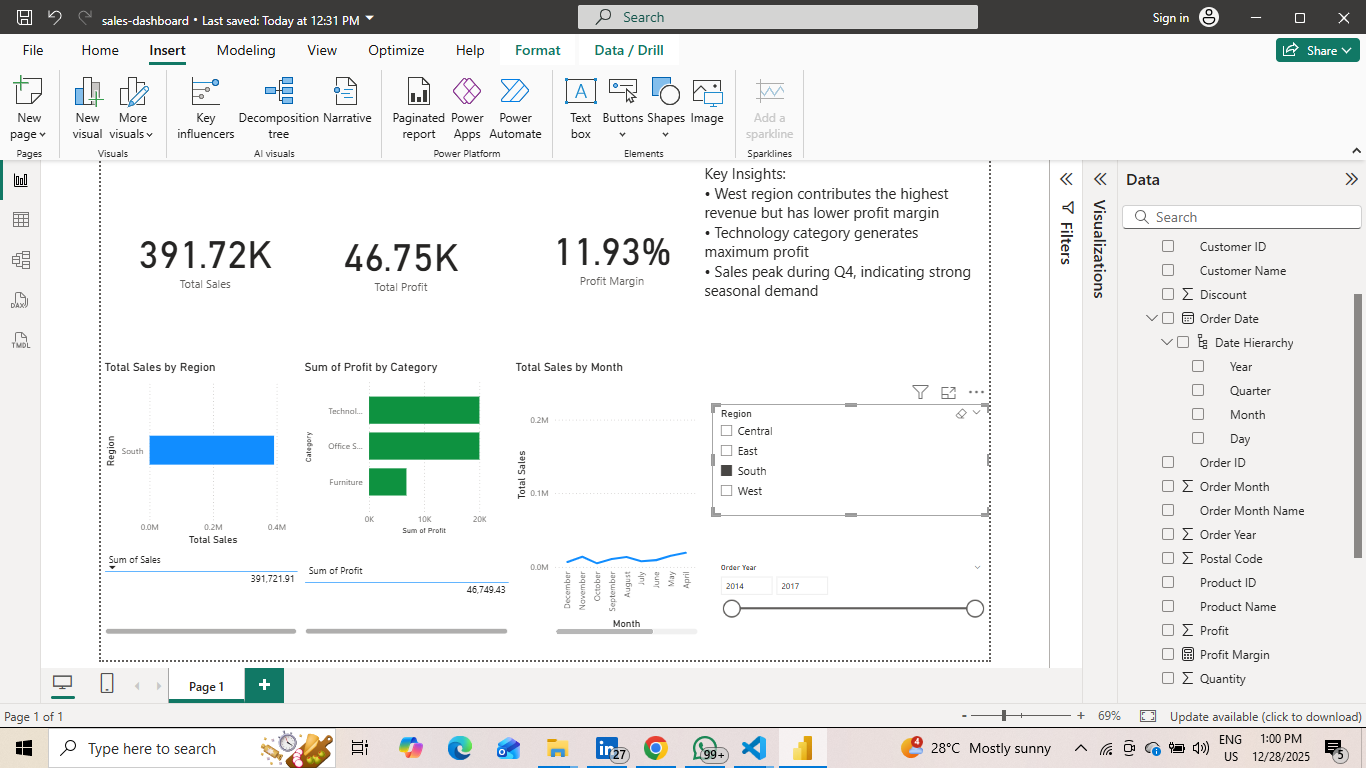

This screenshot's page, from the dashboard's own definition file:
{"tool":"powerbi","page":{"name":"Page 1","canvas":[1280,720],"ordinal":0},"visuals":[{"type":"card","fields":{"Values":["cleaned_sales_data.Total Sales"]},"box":[10,0,280,280],"z":0},{"type":"card","fields":{"Values":["cleaned_sales_data.Total Profit"]},"box":[288,0,288,288],"z":1},{"type":"card","fields":{"Values":["cleaned_sales_data.Profit Margin"]},"box":[592,0,288,272],"z":2},{"type":"lineChart","fields":{"Y":["cleaned_sales_data.Total Sales"],"Category":["cleaned_sales_data.Order Date.Variation.Date Hierarchy.Month"]},"box":[592,288,272,400],"z":3},{"type":"barChart","fields":{"Category":["cleaned_sales_data.Region"],"Y":["cleaned_sales_data.Total Sales"]},"box":[0,288,272,272],"z":4},{"type":"barChart","fields":{"Category":["cleaned_sales_data.Category"],"Y":["Sum(cleaned_sales_data.Profit)"]},"box":[288,288,272,256],"z":5},{"type":"tableEx","fields":{"Values":["Sum(cleaned_sales_data.Sales)"]},"box":[0,560,288,128],"z":7},{"type":"tableEx","fields":{"Values":["Sum(cleaned_sales_data.Profit)"]},"box":[288,576,304,112],"z":8},{"type":"slicer","fields":{"Values":["cleaned_sales_data.Region"]},"box":[880,352,400,160],"z":9},{"type":"slicer","fields":{"Values":["cleaned_sales_data.Order Year"]},"box":[880,576,400,144],"z":10},{"type":"textbox","box":[864,0,416,224],"z":11}]}

Visuals, with their boxes on the page's 1280x720 design canvas (x1, y1, x2, y2). These are canvas units, not pixel positions in the 1366x768 screenshot, which may show the page scaled, cropped or inside an application window:
card - cleaned_sales_data.Total Sales: box(10, 0, 290, 280)
card - cleaned_sales_data.Total Profit: box(288, 0, 576, 288)
card - cleaned_sales_data.Profit Margin: box(592, 0, 880, 272)
lineChart - cleaned_sales_data.Total Sales x cleaned_sales_data.Order Date.Variation.Date Hierarchy.Month: box(592, 288, 864, 688)
barChart - cleaned_sales_data.Region x cleaned_sales_data.Total Sales: box(0, 288, 272, 560)
barChart - cleaned_sales_data.Category x Sum(cleaned_sales_data.Profit): box(288, 288, 560, 544)
tableEx - Sum(cleaned_sales_data.Sales): box(0, 560, 288, 688)
tableEx - Sum(cleaned_sales_data.Profit): box(288, 576, 592, 688)
slicer - cleaned_sales_data.Region: box(880, 352, 1280, 512)
slicer - cleaned_sales_data.Order Year: box(880, 576, 1280, 720)
textbox: box(864, 0, 1280, 224)
